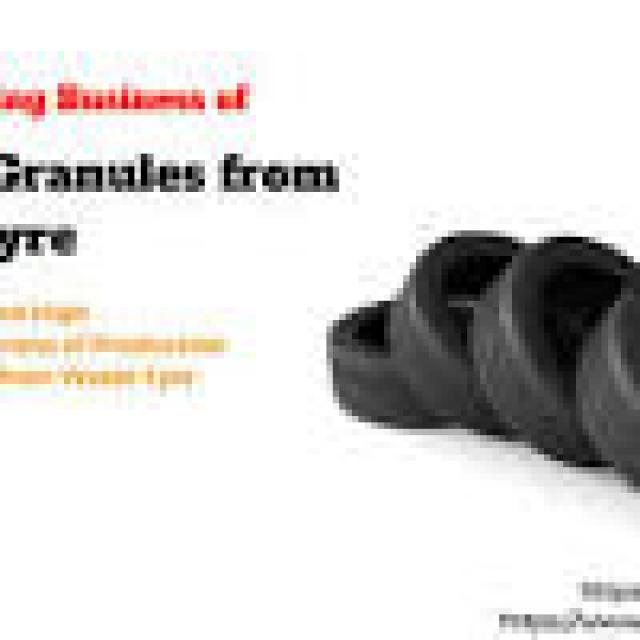Rubber -Non-Biodegradable but Recyclable-: (326, 226, 640, 488)
